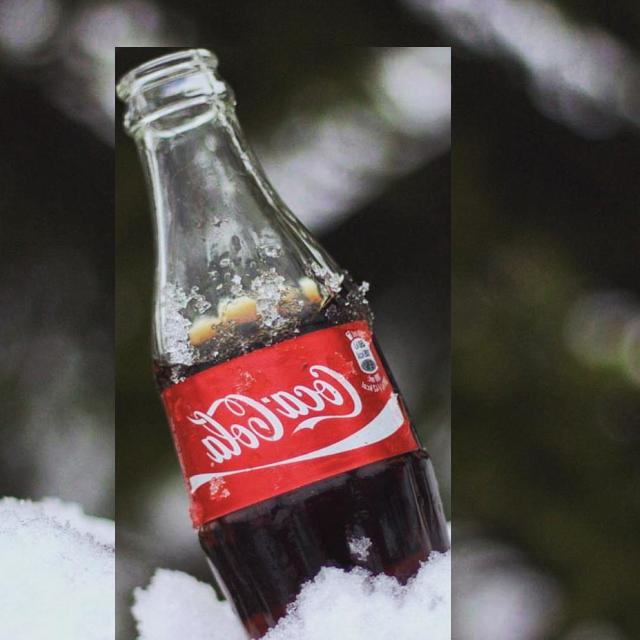coca-cola: (115, 47, 451, 640)
